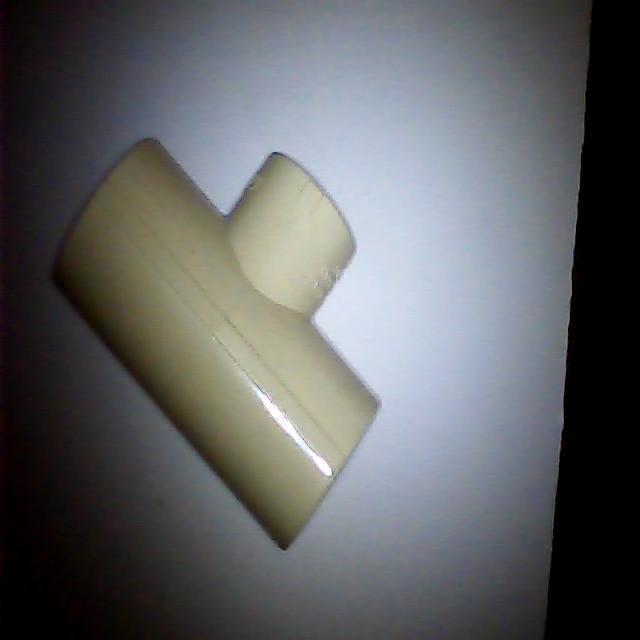T Joint: (54, 139, 381, 552)
